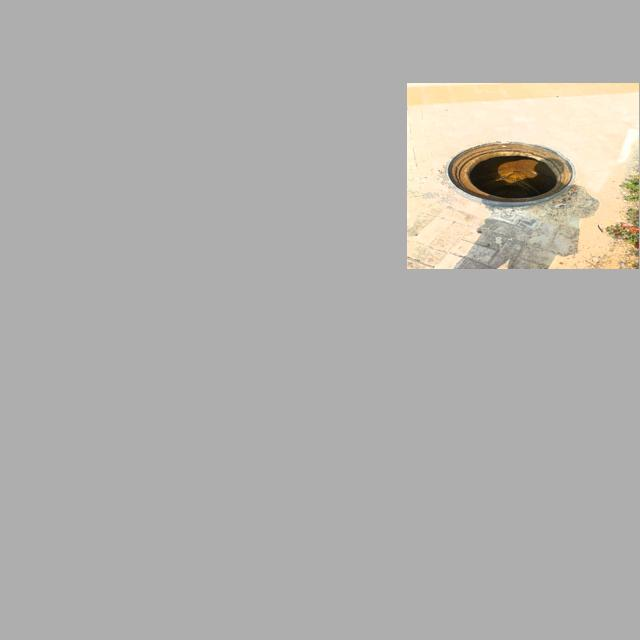lose: (440, 136, 590, 205)
